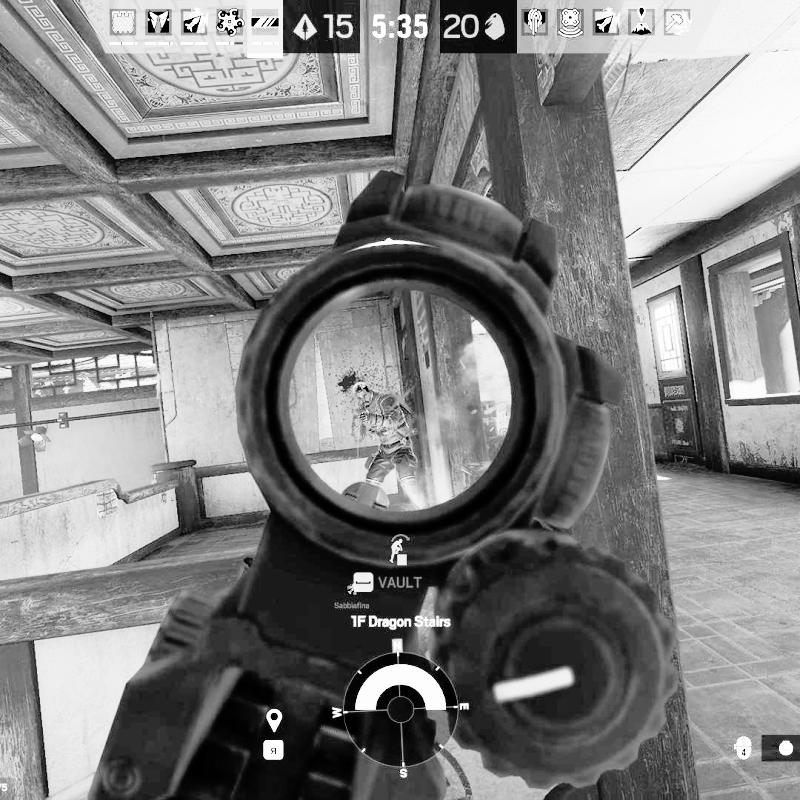Character: (352, 381, 432, 511)
Friend_label: (334, 582, 370, 610)
Head: (354, 382, 373, 408)
